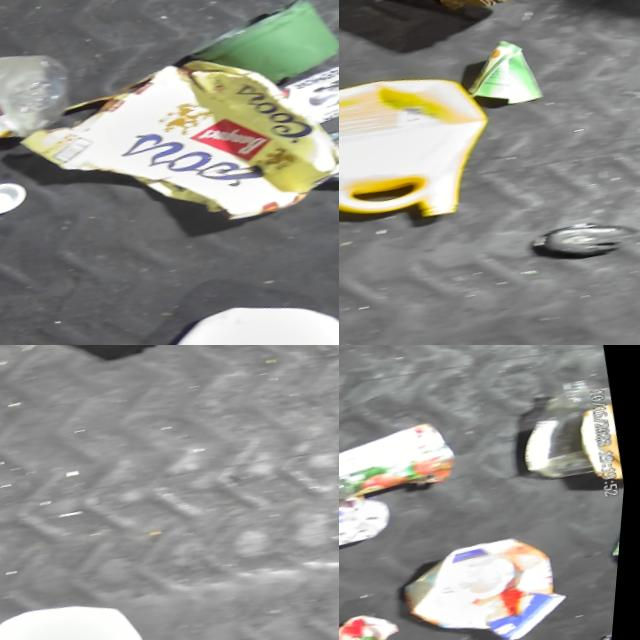can: (339, 406, 472, 510), (339, 598, 413, 640), (316, 114, 339, 187)
milk_jug: (0, 578, 183, 640)
non_white_jug: (339, 48, 517, 265)
plastic_bottle: (508, 363, 632, 484)
